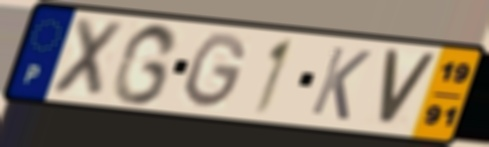1: (252, 36, 302, 119)
G: (108, 21, 182, 107), (181, 30, 250, 112)
K: (306, 43, 375, 124)
V: (376, 46, 441, 130)
X: (46, 15, 129, 102)
